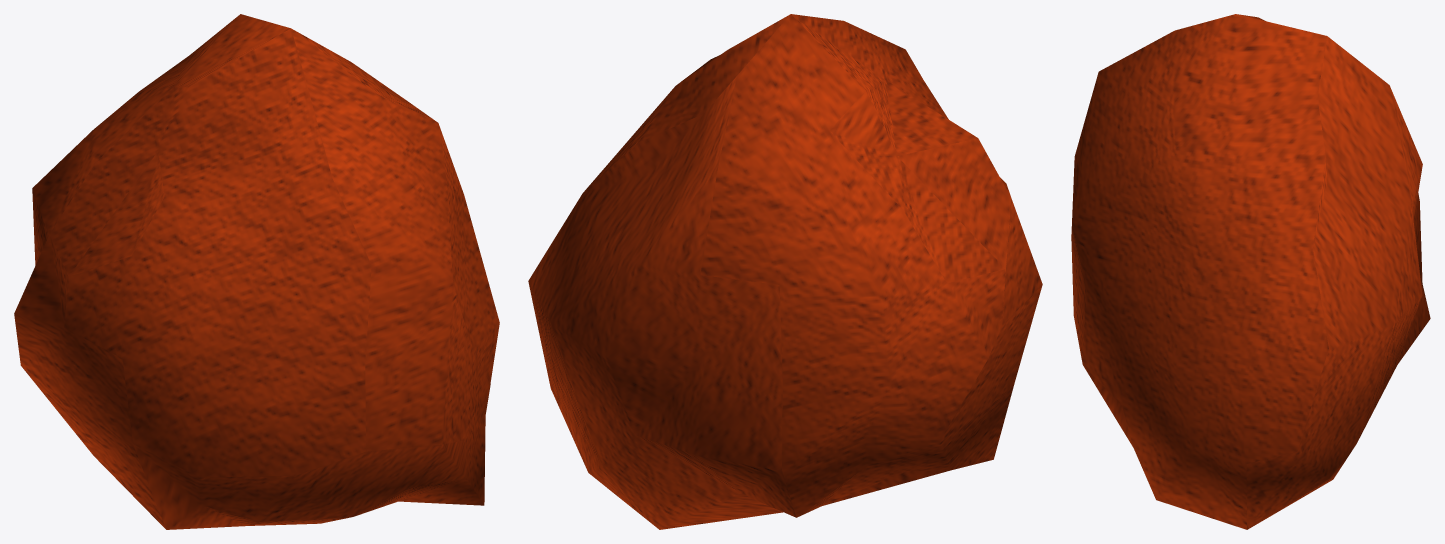
Rendered from stone-00.obj.
3 renders of one model, left to right at view 1: azimuth 30°, elevation 25°; view 2: azimuth 150°, elevation 25°; view 3: azimuth 270°, elevation 25°, orthographic. The views are drawn at different scales.
Parts seen in each view (by area): view 1: Stone.000_Cube.079; view 2: Stone.000_Cube.079; view 3: Stone.000_Cube.079.
Part boxes in pixels (bbox=[...]): Stone.000_Cube.079: bbox=[14, 14, 499, 529]; Stone.000_Cube.079: bbox=[528, 14, 1042, 529]; Stone.000_Cube.079: bbox=[1071, 14, 1430, 529].
Bounding box in the file's own units: 2.97 × 3.24 × 2.36.
Materials: 1 (1 with a texture image).
